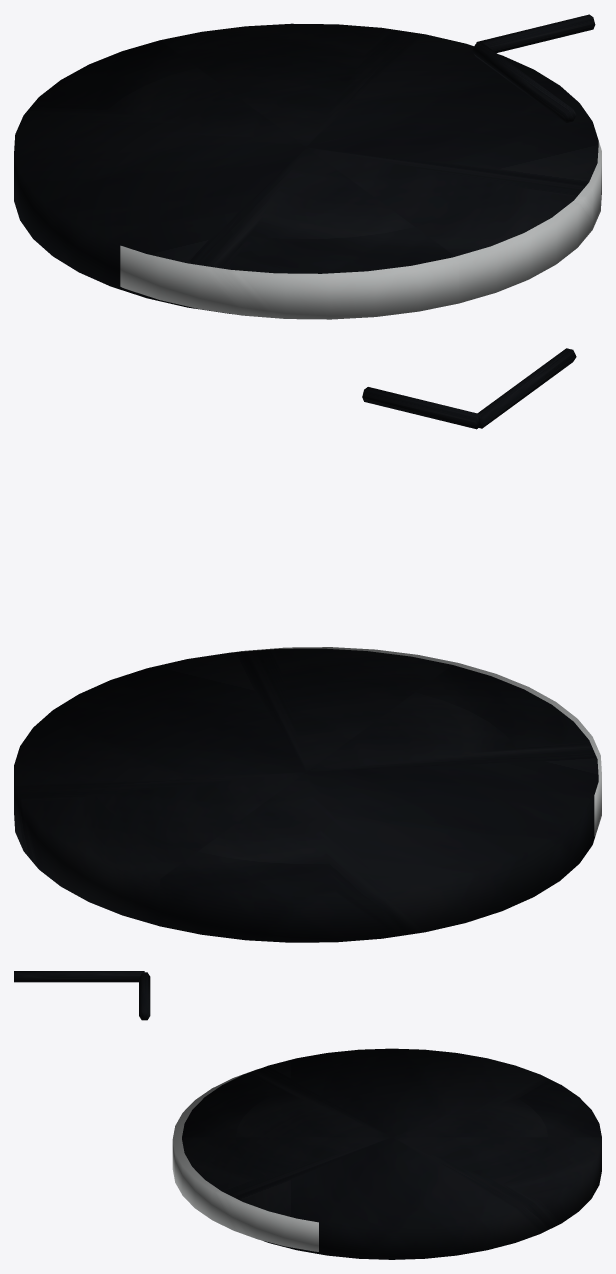
The model's file is WALL_CLOCK_001.glb.
3 renders of one model, top to bottom at view 1: azimuth 30°, elevation 25°; view 2: azimuth 150°, elevation 25°; view 3: azimuth 270°, elevation 25°, orthographic. The views are drawn at different scales.
Parts seen in each view (by area): view 1: clock_rim_001, clock_face_000, minute_hand_002, hour_hand_003; view 2: clock_rim_001, hour_hand_003, clock_face_000, minute_hand_002; view 3: clock_rim_001, clock_face_000, minute_hand_002, hour_hand_003.
Part boxes in pixels (<box>): clock_rim_001: <box>14,23,598,314</box>; clock_face_000: <box>120,141,601,319</box>; minute_hand_002: <box>472,42,576,122</box>; hour_hand_003: <box>476,14,595,52</box>; clock_rim_001: <box>14,648,598,942</box>; hour_hand_003: <box>362,387,480,429</box>; clock_face_000: <box>234,647,601,836</box>; minute_hand_002: <box>477,348,576,428</box>; clock_rim_001: <box>182,1048,601,1259</box>; clock_face_000: <box>172,1069,318,1251</box>; minute_hand_002: <box>14,971,144,982</box>; hour_hand_003: <box>139,972,150,1020</box>.
Bounding box in the file's own units: 0.45 × 0.2352 × 0.63.
2 materials, 2 textured.
